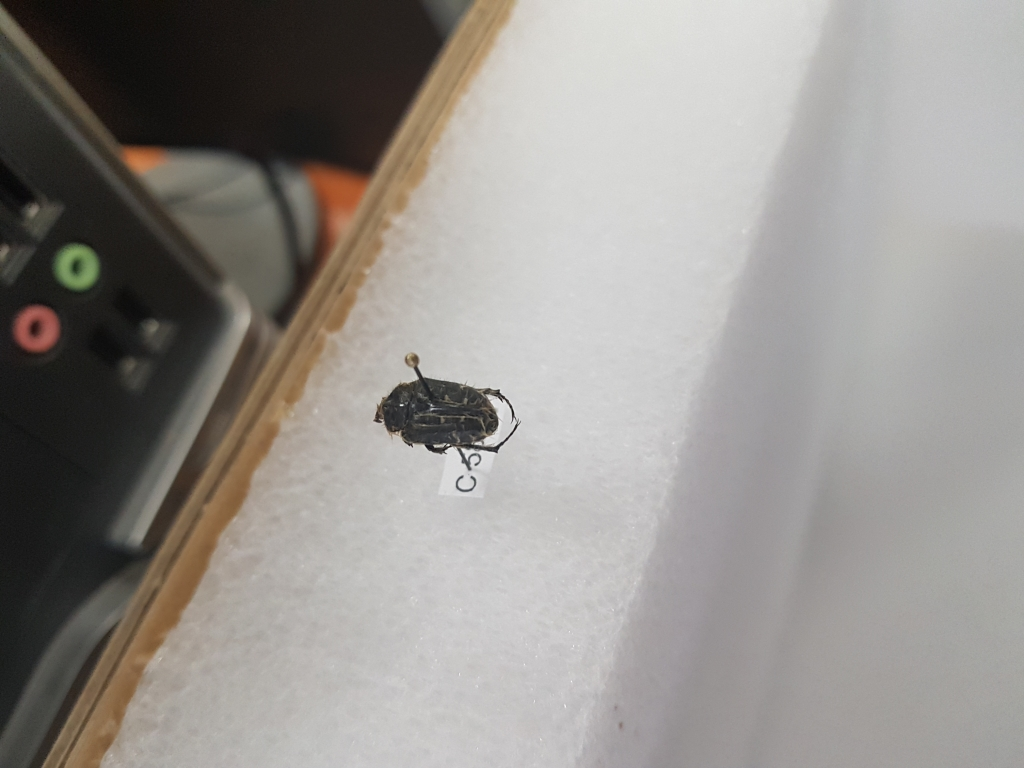Tropinota_hirta: (362, 377, 528, 458)
